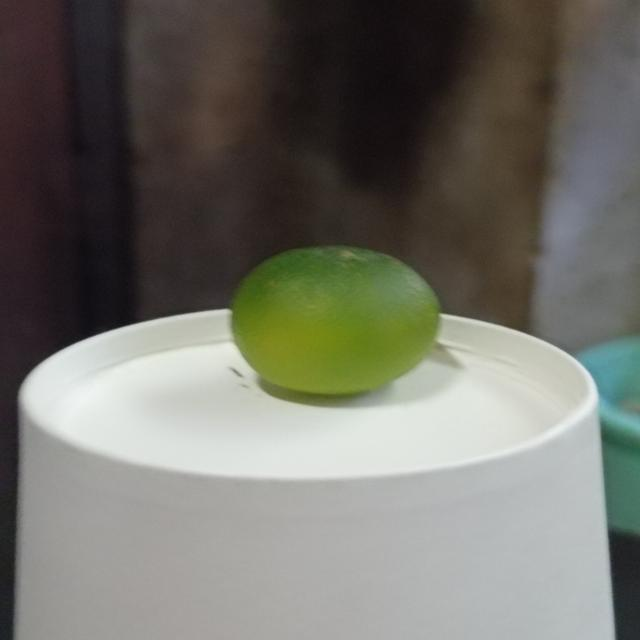heathy: (229, 238, 450, 396)
